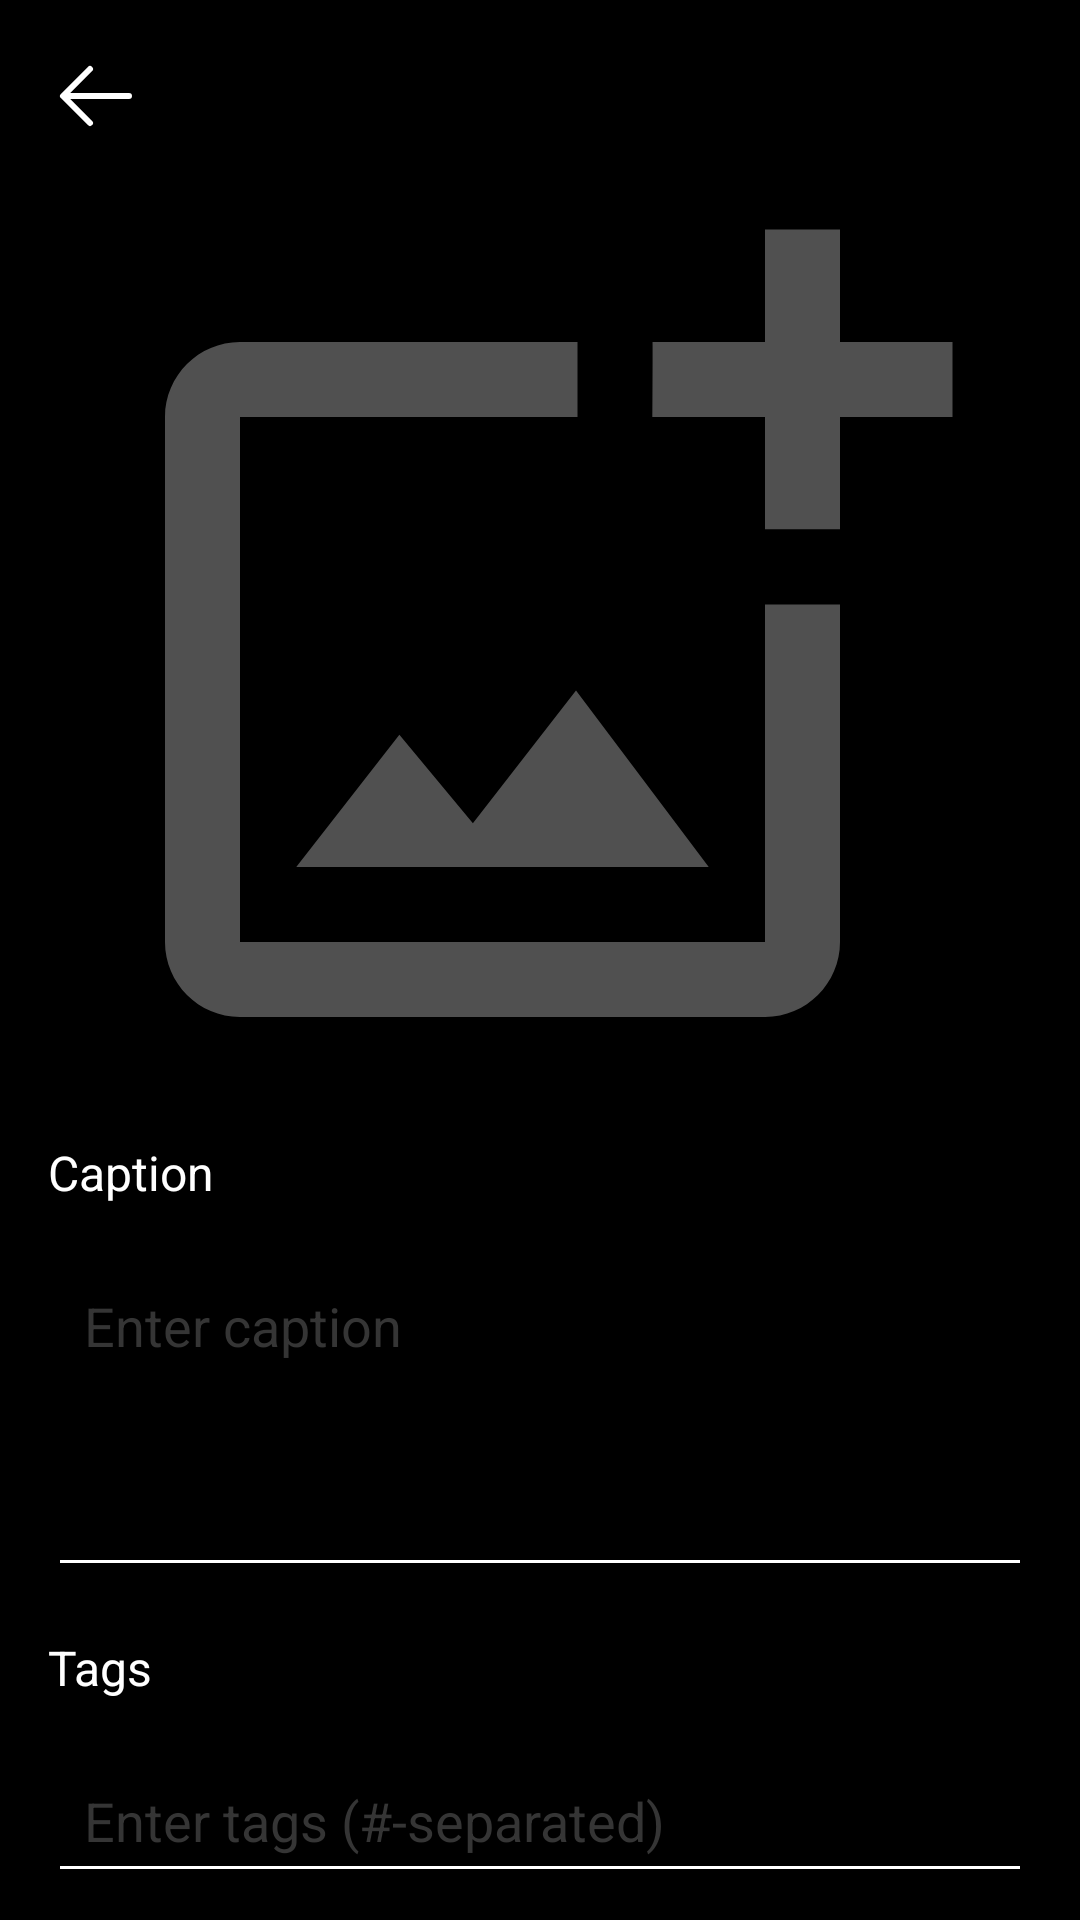

Screen size 1080px x 1920px. Icon name, then its center in pixels as point (x, y):
arrow left: point (96, 95)
